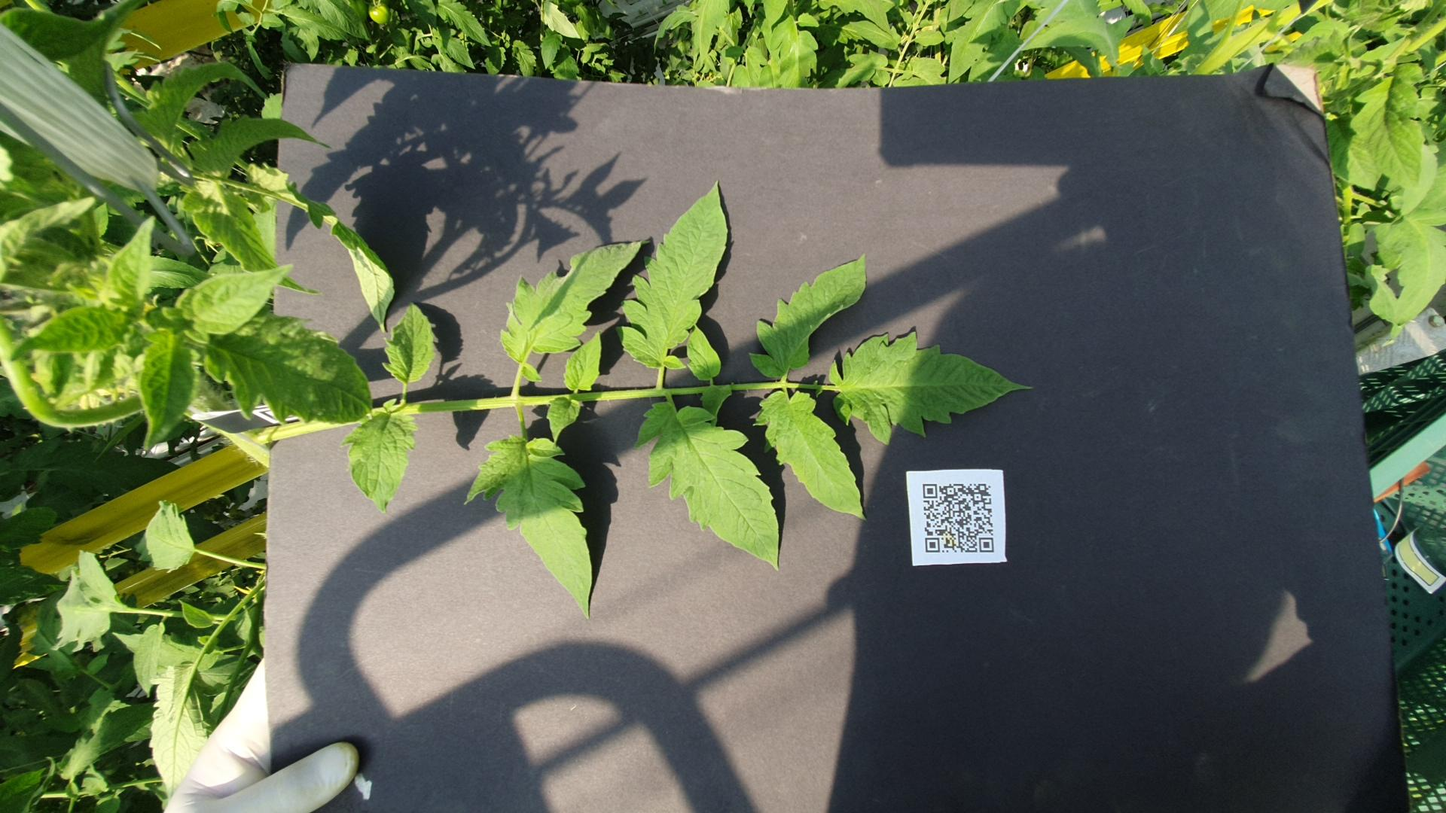Healthy: (633, 70, 984, 211), (429, 356, 734, 441), (335, 260, 676, 335), (664, 466, 858, 580), (786, 347, 1122, 411), (803, 279, 1030, 368), (920, 101, 1126, 180), (769, 419, 999, 489), (524, 423, 756, 490), (1106, 757, 1336, 803), (1132, 104, 1241, 187), (531, 190, 726, 236), (794, 3, 904, 78), (283, 28, 470, 69), (1296, 530, 1446, 575), (891, 58, 1066, 90), (764, 214, 912, 245), (426, 77, 557, 111), (1292, 432, 1425, 462), (1372, 167, 1446, 208), (1358, 244, 1446, 277), (1372, 158, 1439, 197), (1320, 242, 1401, 267), (1321, 303, 1395, 317), (1310, 287, 1375, 302)
